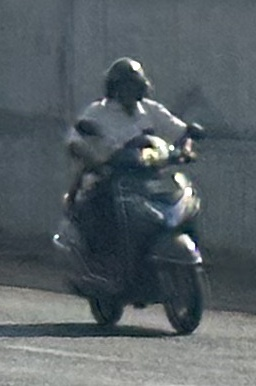BikeWithRider: (50, 53, 216, 341)
Helmet: (103, 53, 149, 111)
